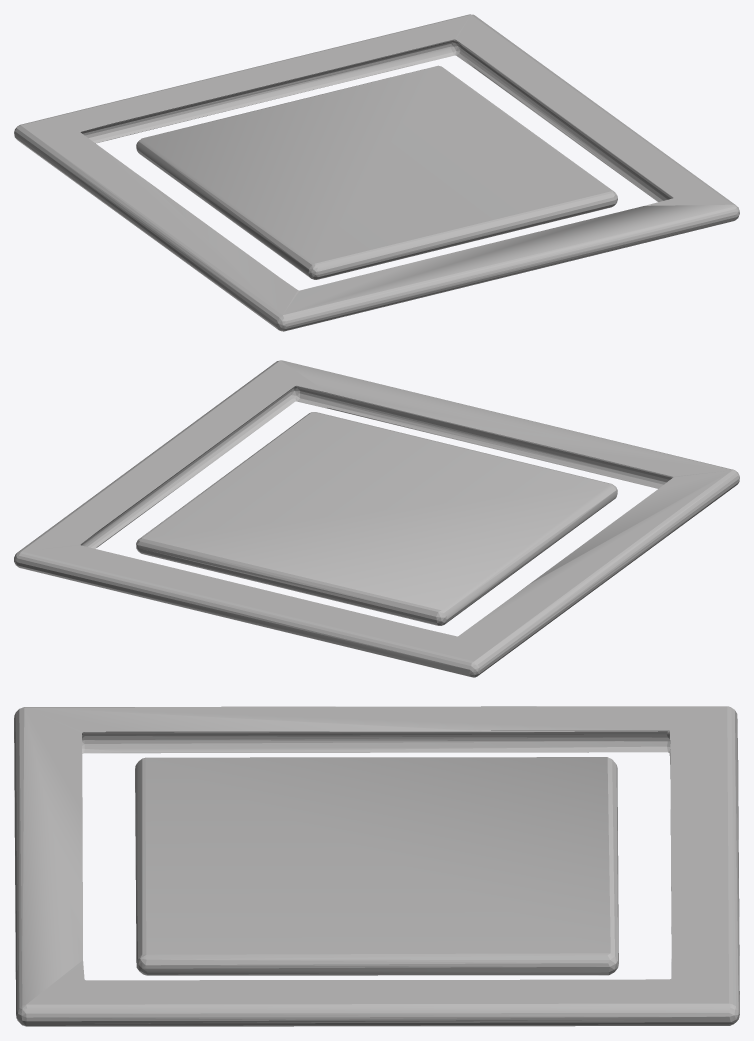
File: infotafelbutton.glb
3 views of the same model, one above another, from view 1: azimuth 30°, elevation 25°; view 2: azimuth 150°, elevation 25°; view 3: azimuth 270°, elevation 25° (orthographic). The views are drawn at different scales.
Visible parts, largest first — view 1: 265775_23_05_05_07_52_36; view 2: 265775_23_05_05_07_52_36; view 3: 265775_23_05_05_07_52_36.
Boxes of the visible parts, box(x1,y1,x2,y2) form: 265775_23_05_05_07_52_36: box(14, 14, 739, 331); 265775_23_05_05_07_52_36: box(14, 360, 739, 677); 265775_23_05_05_07_52_36: box(14, 706, 739, 1026).
Bounding box in the file's own units: 1.2 × 0.04 × 1.2.
1 material, 1 textured.
